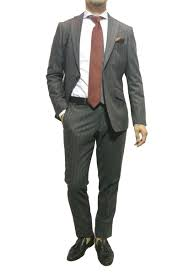F_M_suit jacket: (41, 11, 148, 128)
F_belt: (64, 91, 119, 112)
